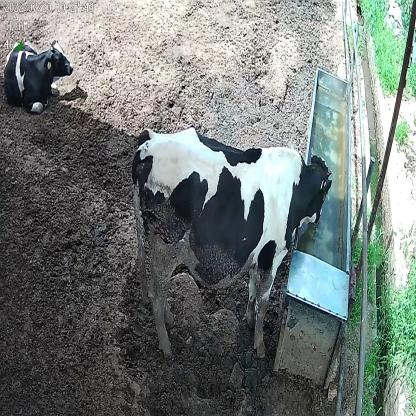cow: (129, 128, 333, 363), (3, 39, 76, 115)
